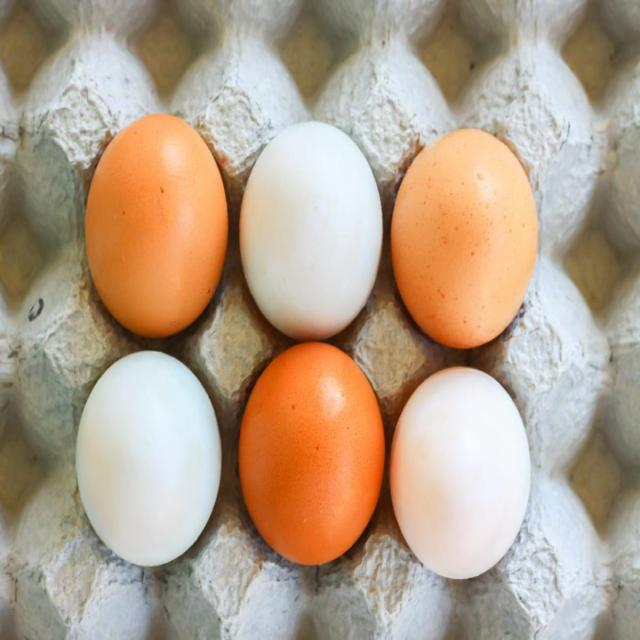egg: (239, 342, 386, 566), (391, 128, 539, 348), (85, 113, 228, 337), (239, 120, 383, 340), (76, 352, 221, 566), (390, 367, 532, 580)
